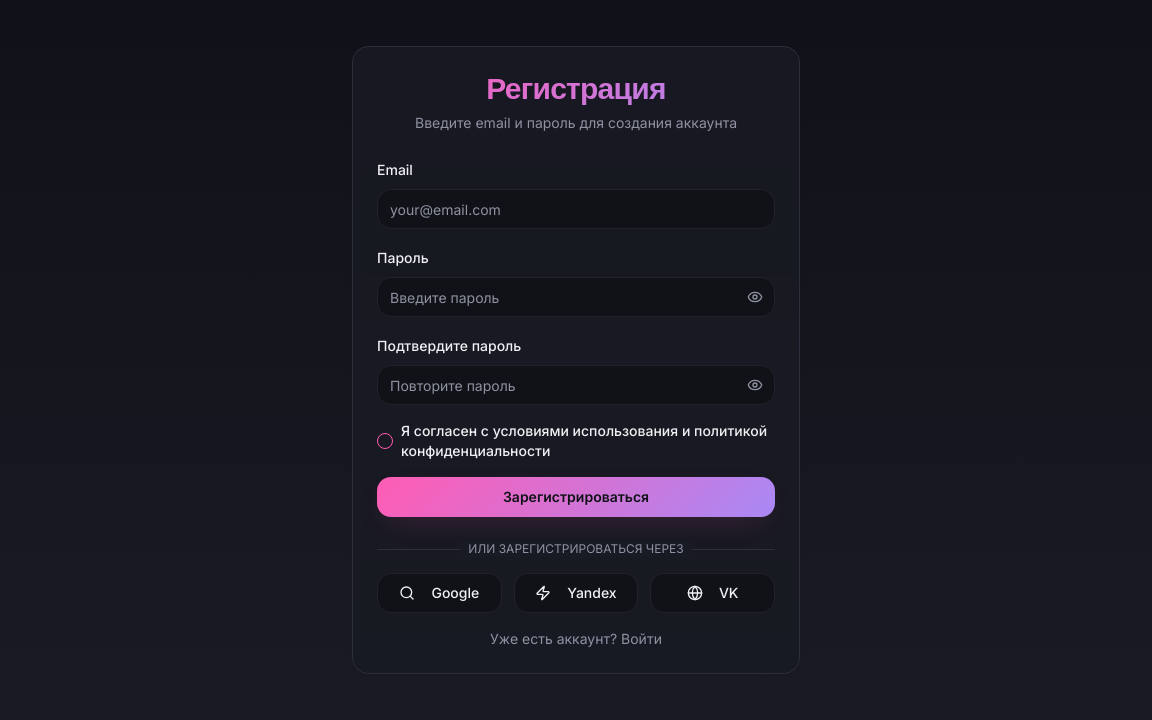
Scenario: Register Component › handles registration error
Заполняем форму
Type "test@example.com" into the field labelled "Email" at (576, 209), box [377, 189, 775, 229]
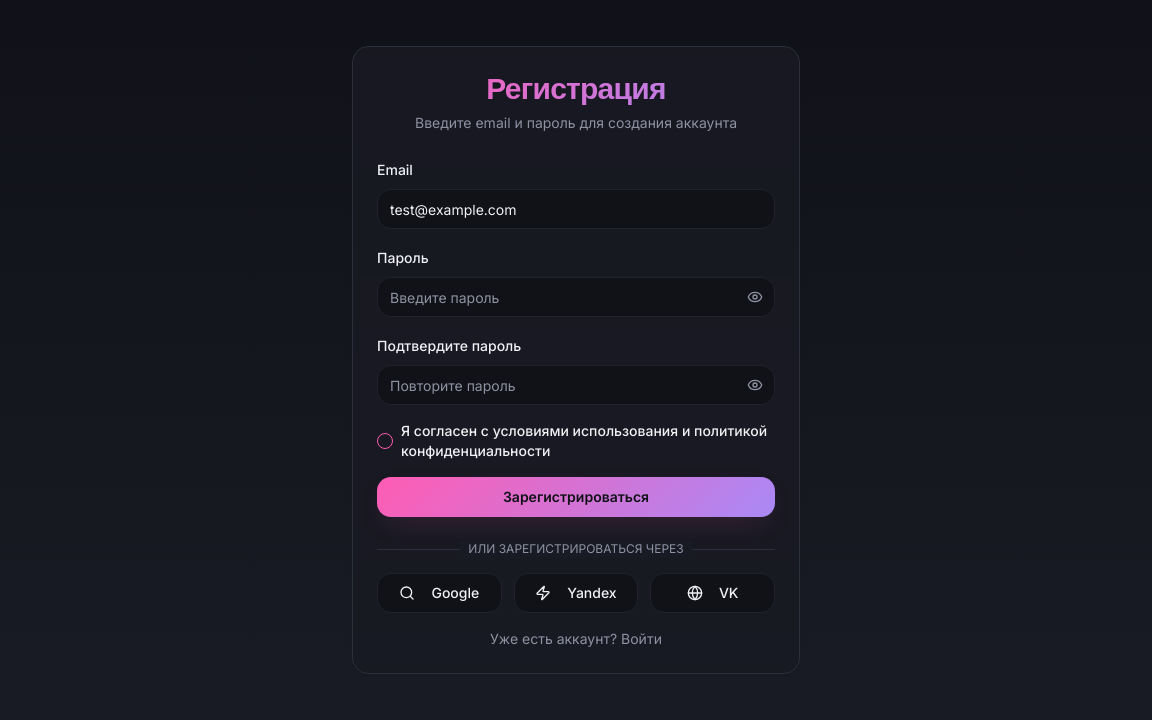
Type "password123" into the password field labelled "Пароль" at (576, 297), box [377, 277, 775, 317]
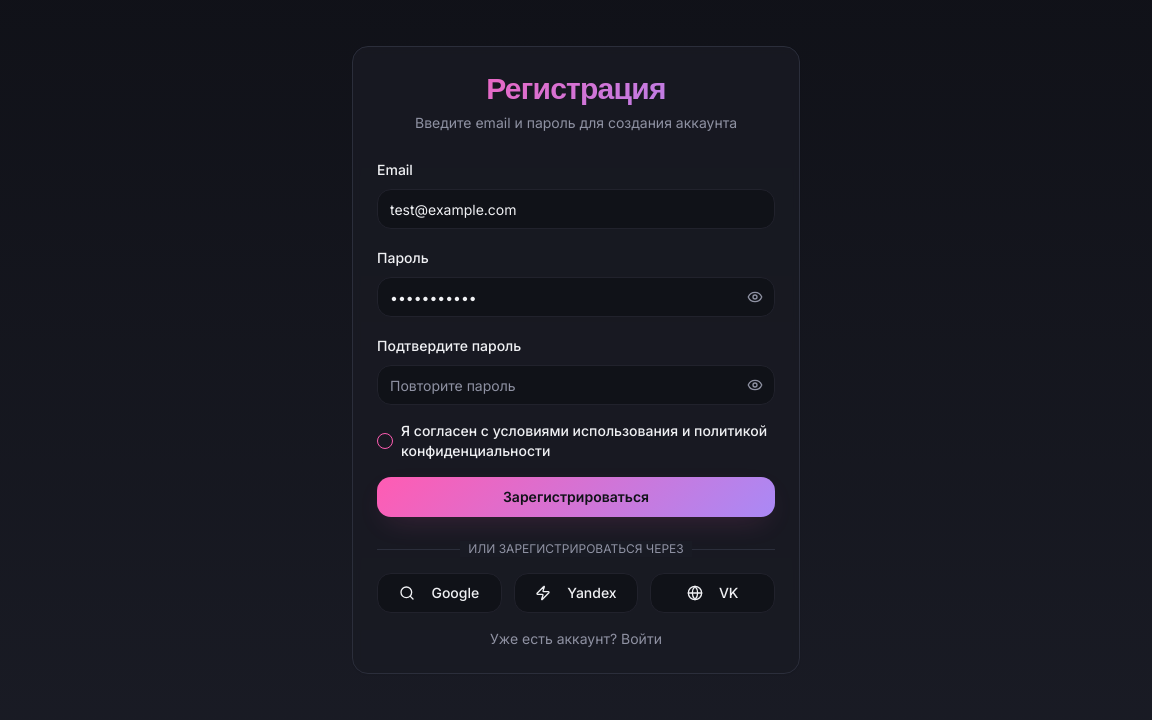
Type "password123" into the password field labelled "Подтвердите пароль" at (576, 385), box [377, 365, 775, 405]
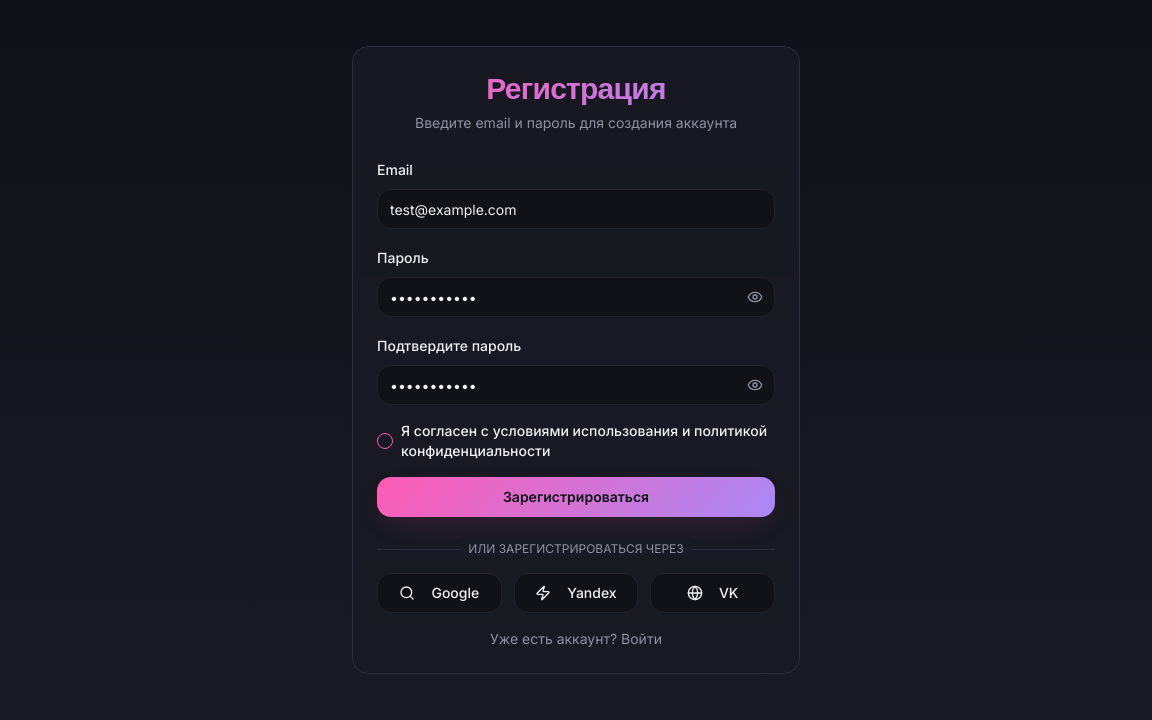
Click the checkbox at (385, 441), box [377, 433, 393, 449]
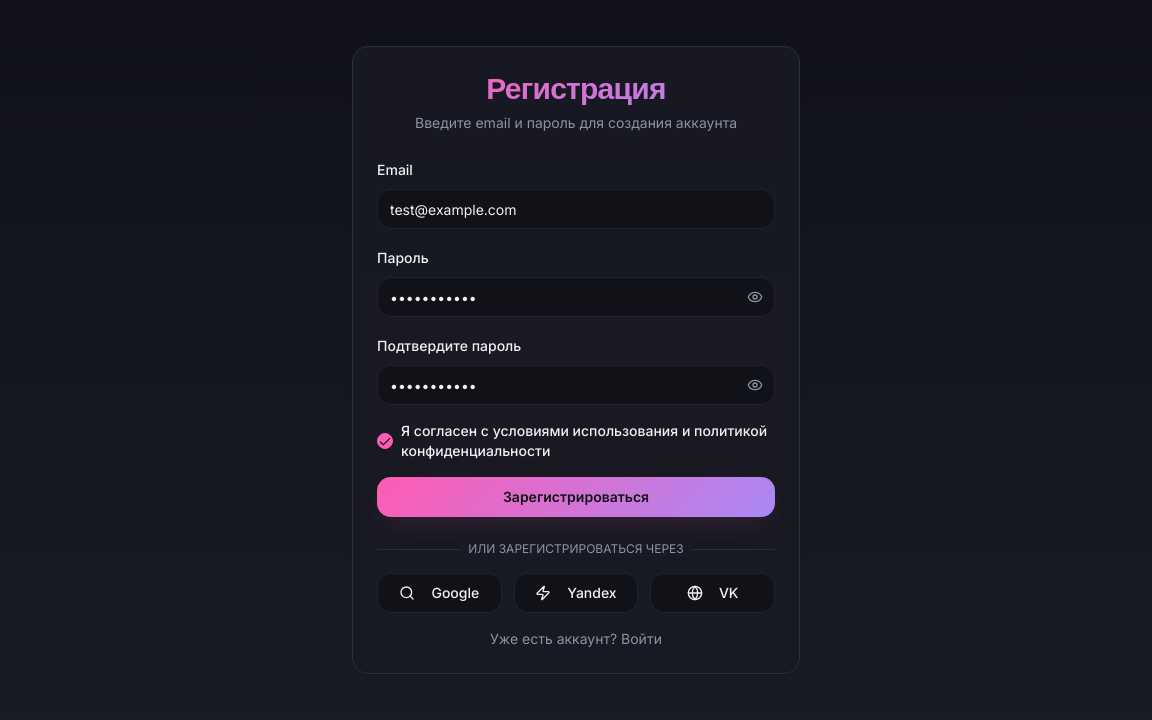
Click the button "Зарегистрироваться" at (576, 497), box [377, 477, 775, 517]
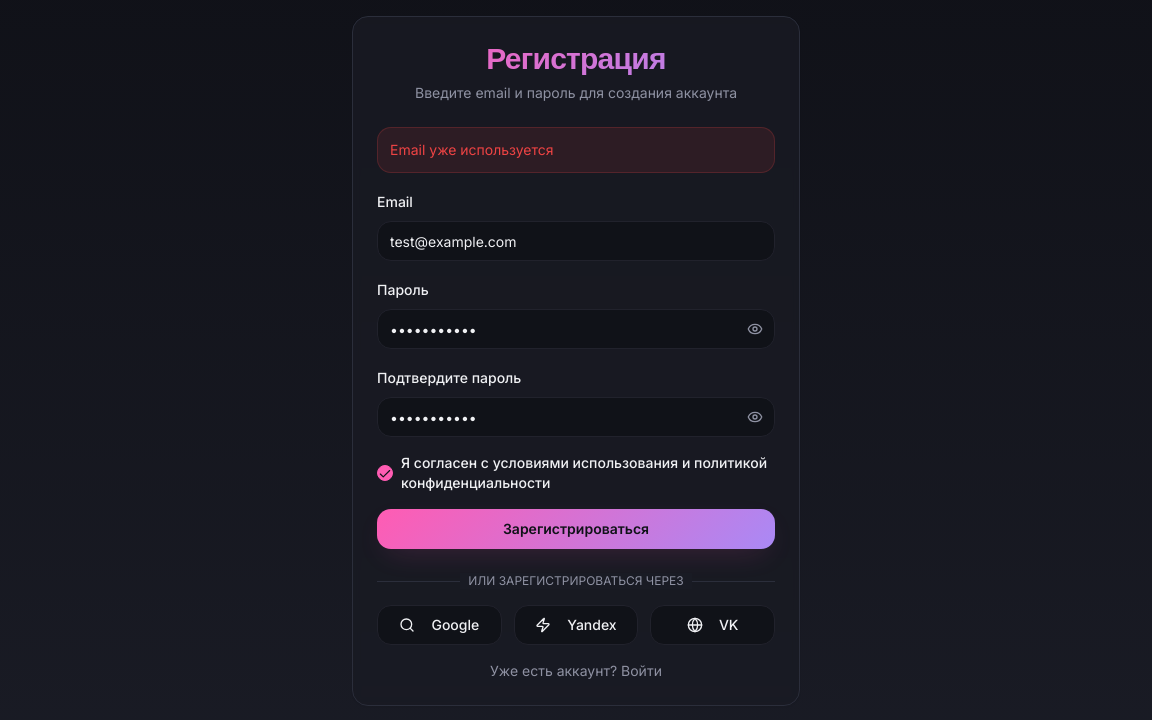
Expected: the text "Email уже используется" is shown, [377, 127, 775, 173]
